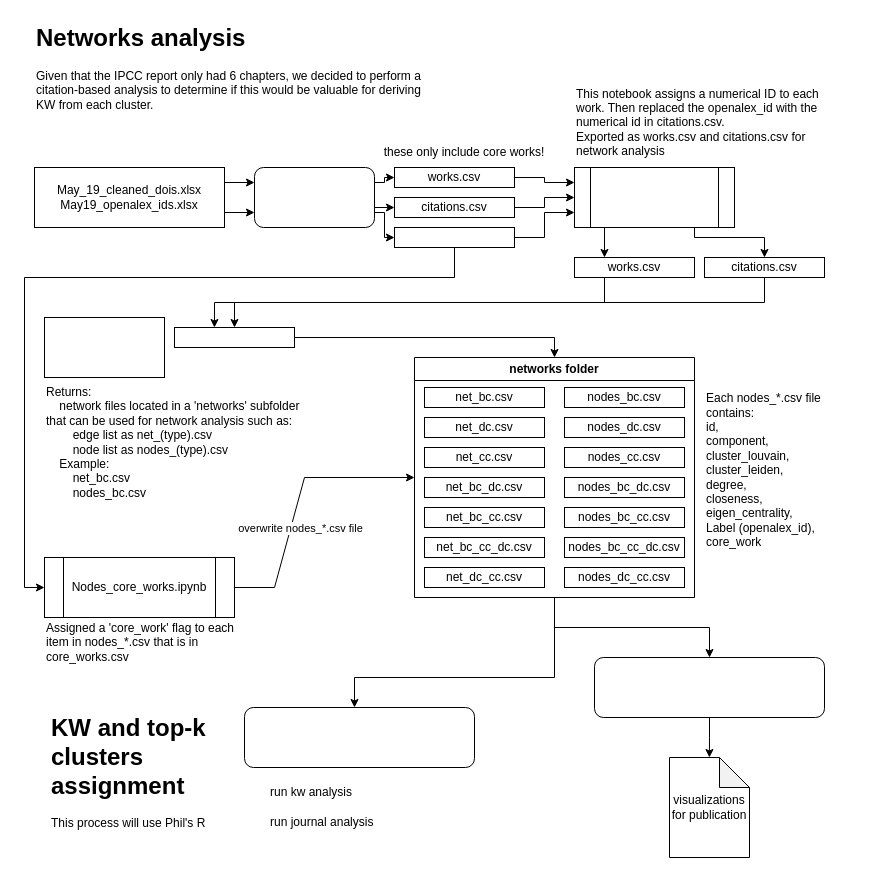
Some shapes in this 882 by 875 pixel diagram are drawn without their labels. Here are the shapes that lost their labels. From the top down, the centre of each, then its label:
At [314,197]: "Geoff processed to produce works and citations".
At [654,197]: "IPCC_data_prep.ipynb".
At [454,237]: "core_works.csv".
At [104,347]: "Biblionet Python package".
At [234,337]: "biblionet.py".
At [709,687]: "Processed in Gephi for confirmation of networks".
At [359,737]: "KW and top-k journals for each cluster".
